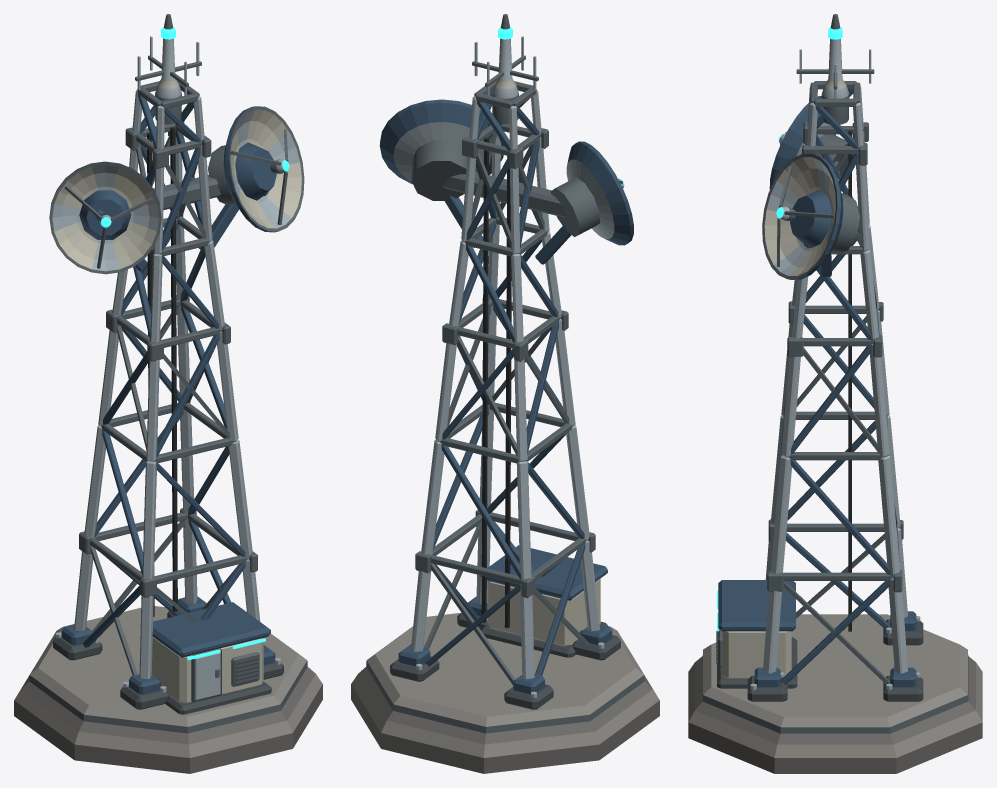
Rendered from relay_tower.glb.
3 renders of one model, left to right at view 1: azimuth 30°, elevation 25°; view 2: azimuth 150°, elevation 25°; view 3: azimuth 270°, elevation 25°, orthographic.
Visible parts, largest first — view 1: relay_tower; view 2: relay_tower; view 3: relay_tower.
Boxes of the visible parts, bbox=[...] form: relay_tower: bbox=[14, 14, 322, 773]; relay_tower: bbox=[351, 14, 659, 773]; relay_tower: bbox=[688, 14, 982, 773].
Bounding box in the file's own units: 7 × 18.33 × 7.
